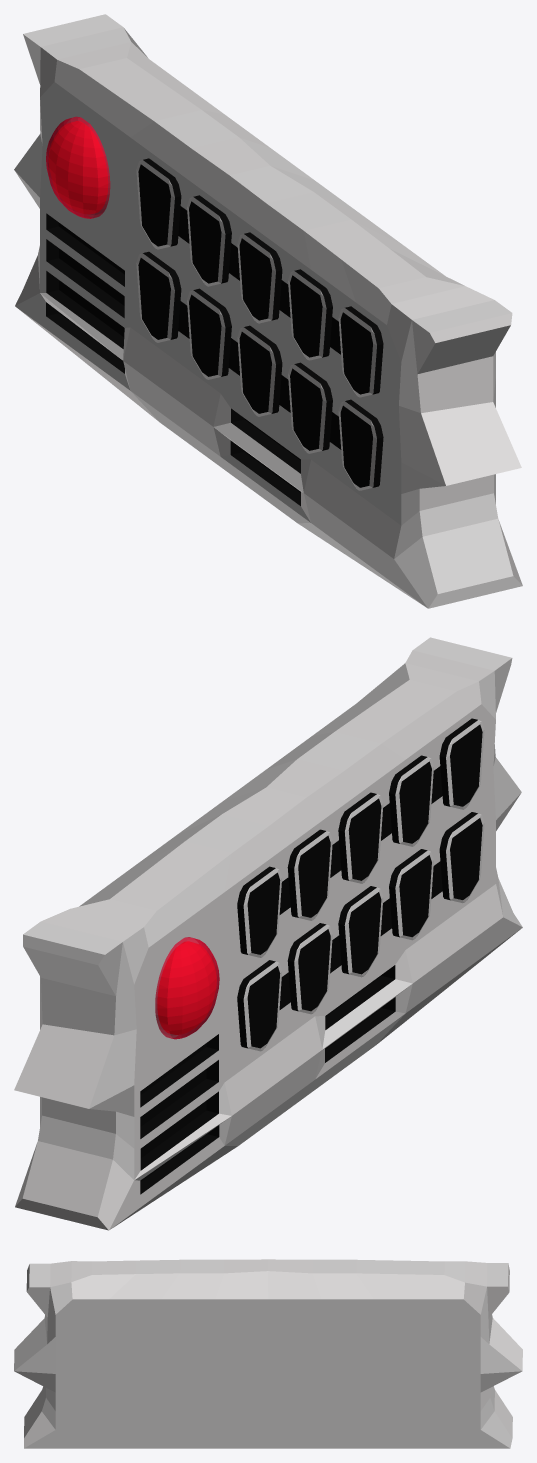
Rendered from FinalBossFinal.fbx.
The picture shows the model from 3 angles, top to bottom: view 1: azimuth 30°, elevation 25°; view 2: azimuth 150°, elevation 25°; view 3: azimuth 270°, elevation 25°; orthographic projection. The views are drawn at different scales.
Parts seen in each view (by area): view 1: Cube.002; view 2: Cube.002; view 3: Cube.002.
Boxes of the visible parts, x1,y1,x2,y2 form: Cube.002: (14, 14, 522, 608); Cube.002: (14, 637, 522, 1230); Cube.002: (14, 1259, 522, 1448).
Bounding box in the file's own units: 372 × 851 × 2243.
